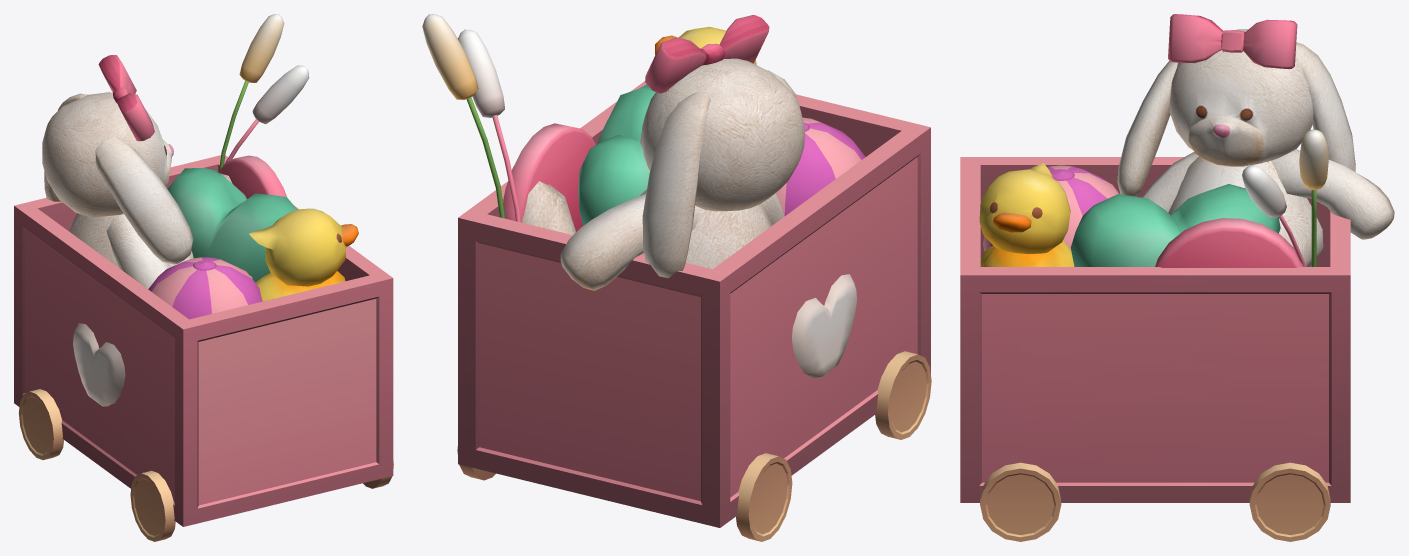
File: Doll_OB_ToyBox_001.FBX
3 renders of one model, left to right at view 1: azimuth 30°, elevation 25°; view 2: azimuth 150°, elevation 25°; view 3: azimuth 270°, elevation 25°, orthographic. The views are drawn at different scales.
Parts seen in each view (by area): view 1: Doll_OB_ToyBox_001; view 2: Doll_OB_ToyBox_001; view 3: Doll_OB_ToyBox_001.
Part boxes in pixels (x1=…): Doll_OB_ToyBox_001: x1=14, y1=14, x2=393, y2=541; Doll_OB_ToyBox_001: x1=422, y1=14, x2=931, y2=541; Doll_OB_ToyBox_001: x1=960, y1=14, x2=1394, y2=541.
Bounding box in the file's own units: 46.11 × 63.64 × 57.09.
